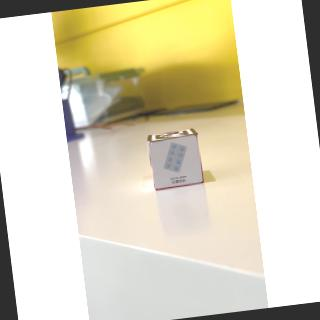Tablet: (149, 137, 206, 191)
